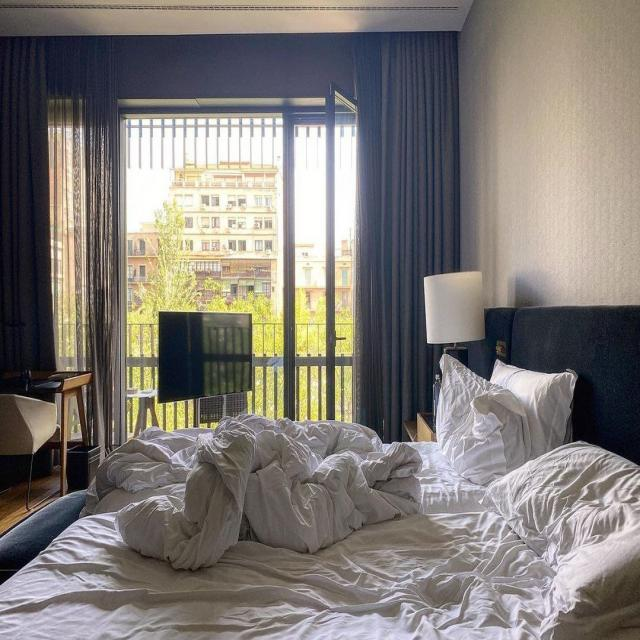bed: (22, 340, 640, 640)
